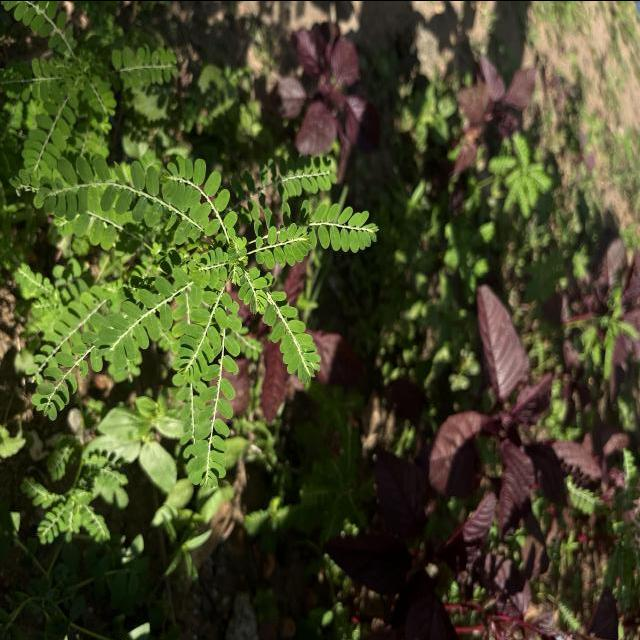Phyllanthus niruri: (28, 152, 216, 252), (93, 274, 185, 370), (156, 152, 238, 243), (170, 283, 238, 384), (184, 361, 234, 491), (266, 290, 322, 392), (314, 198, 384, 255), (252, 216, 312, 272)
